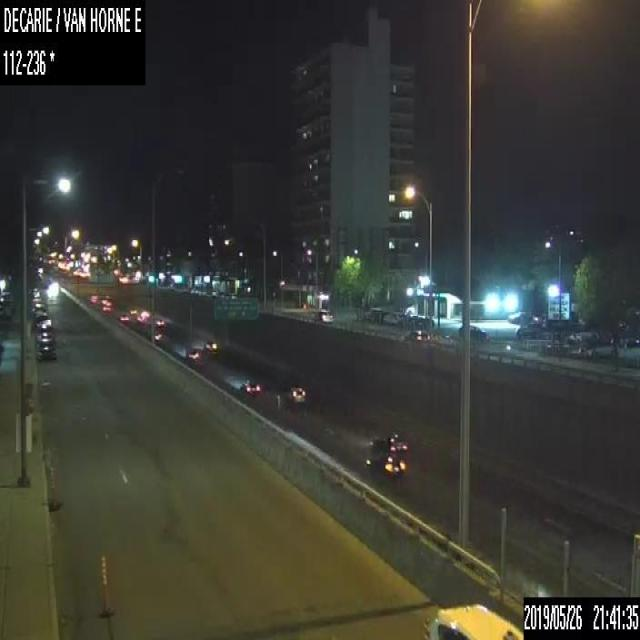construction: (45, 448, 60, 509), (100, 555, 112, 616)
vehicle: (422, 601, 522, 639), (363, 448, 405, 475), (368, 428, 407, 453), (35, 332, 58, 361), (283, 382, 305, 404), (237, 377, 262, 396), (458, 324, 487, 338), (312, 308, 333, 322), (36, 311, 50, 330), (409, 328, 428, 341), (32, 303, 46, 320), (202, 339, 217, 353), (186, 347, 199, 361), (116, 311, 129, 321), (89, 294, 98, 303), (154, 318, 164, 326)
